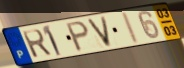1: (42, 25, 64, 57)
6: (137, 9, 162, 41)
I: (121, 10, 141, 46)
P: (65, 19, 91, 54)
R: (20, 28, 54, 59)
V: (85, 15, 114, 49)
